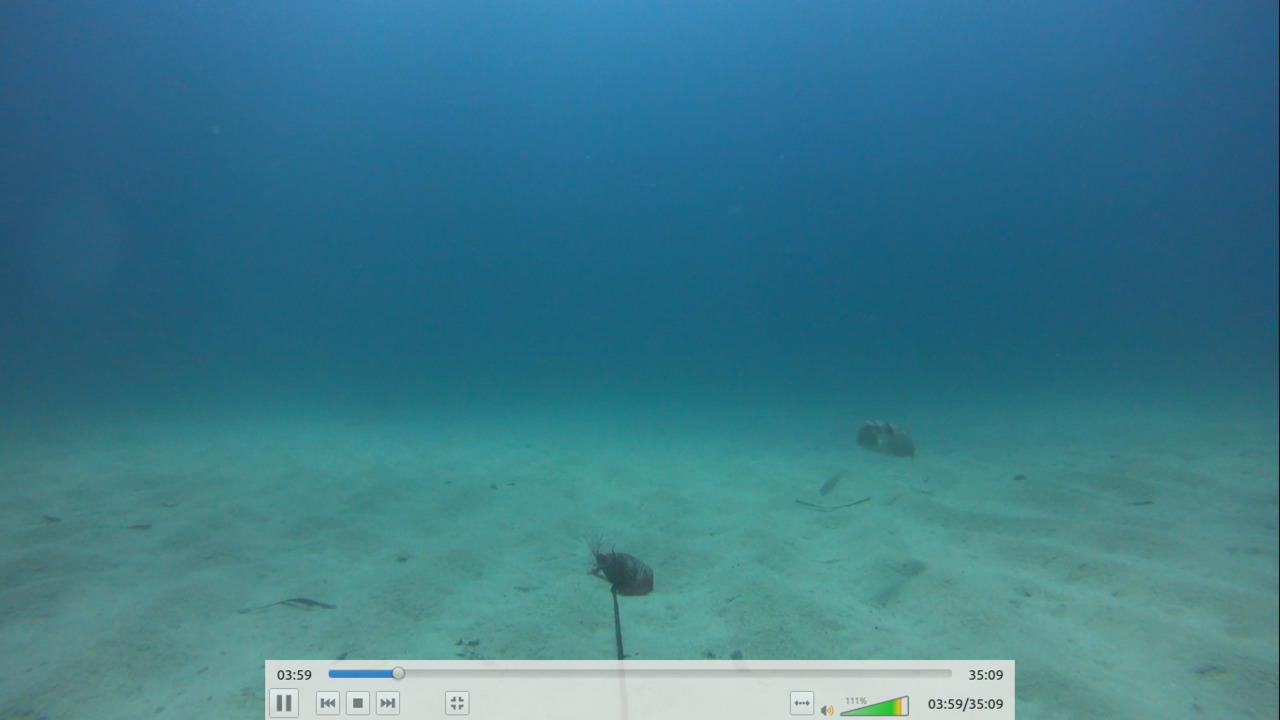raor: (847, 414, 920, 456)
